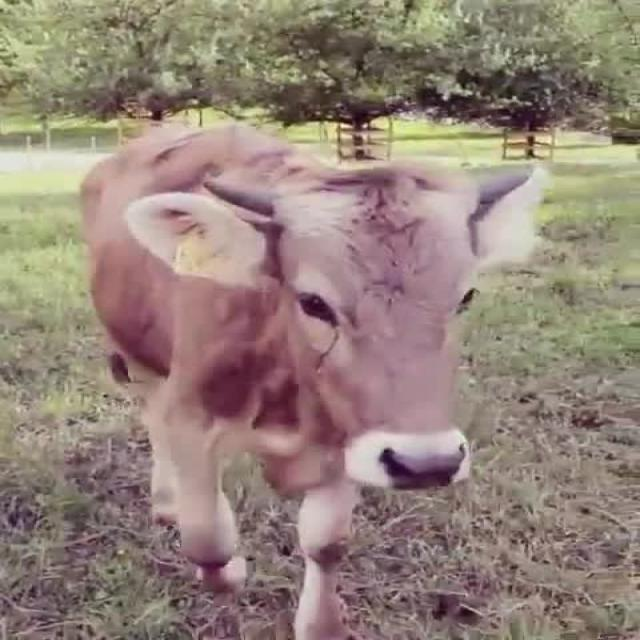cowFace: (125, 152, 559, 503)
